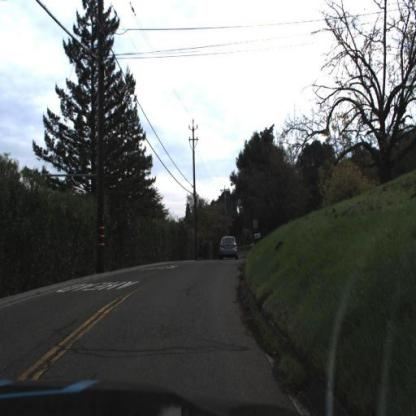car: (215, 235, 244, 265)
